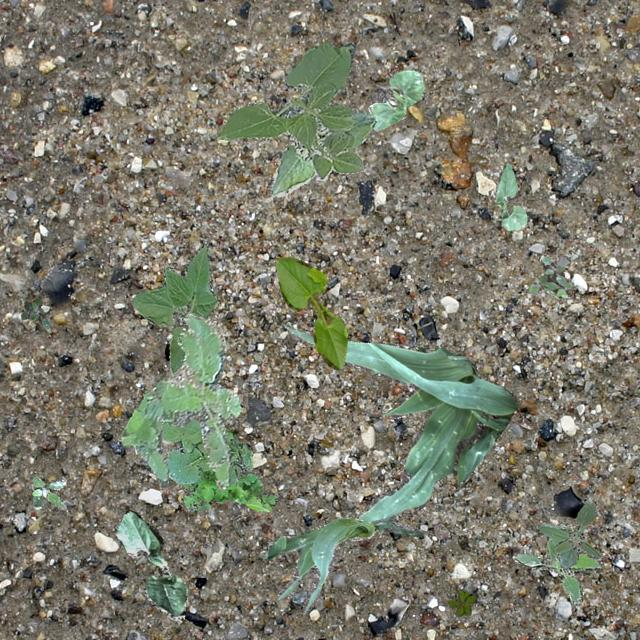crop: (282, 324, 518, 522), (216, 41, 374, 196), (264, 514, 422, 612), (132, 240, 216, 376), (114, 508, 186, 622), (274, 255, 346, 368), (368, 70, 423, 130), (494, 162, 526, 230)
weed: (120, 312, 240, 488), (512, 520, 602, 604), (160, 418, 252, 482), (536, 500, 600, 568), (178, 466, 276, 510), (528, 255, 572, 298), (20, 296, 50, 332), (32, 476, 64, 508), (448, 590, 476, 614)
